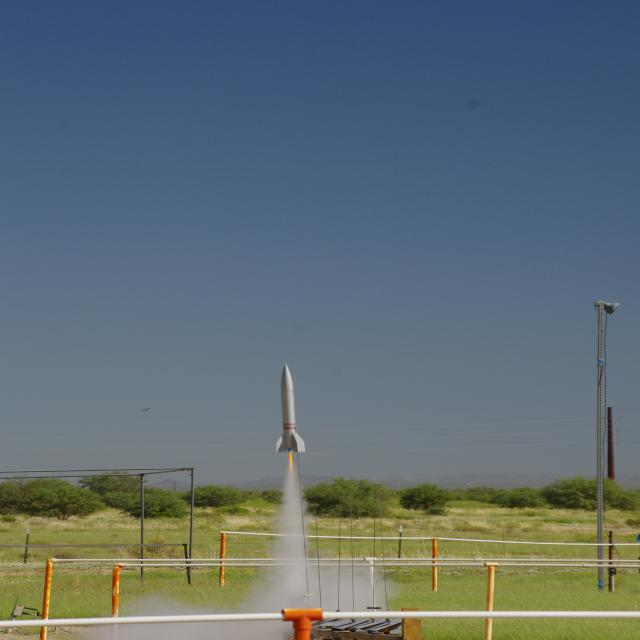Rocket: (273, 362, 309, 455)
